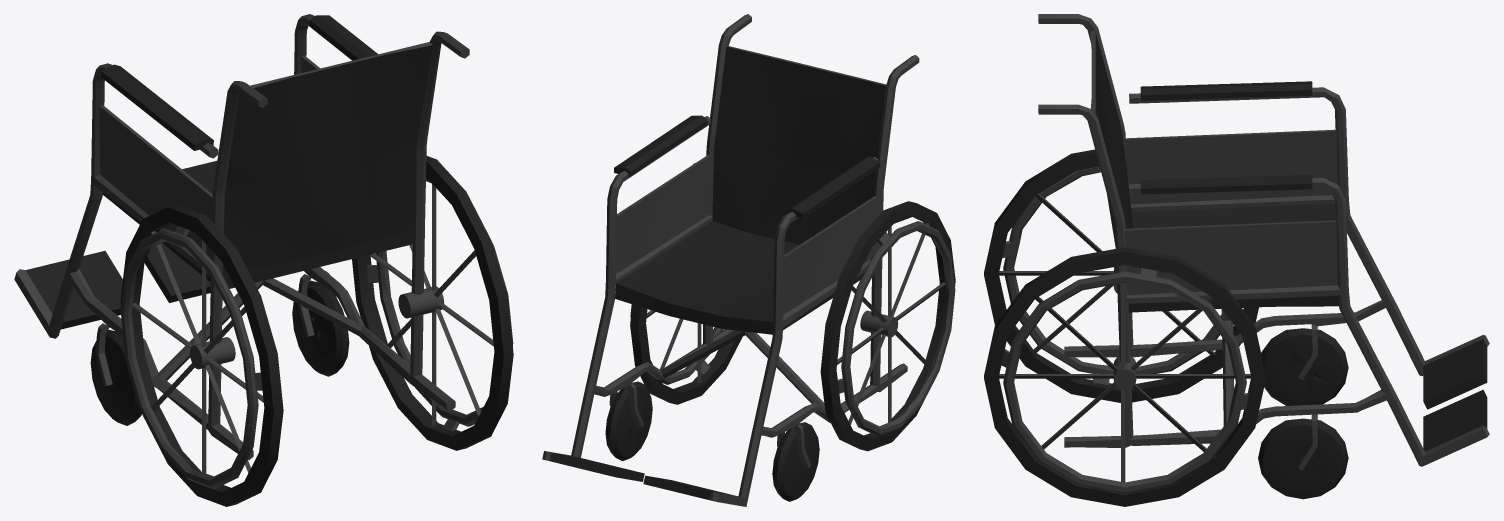
Rendered from WheelChair.fbx.
3 views of the same model, side by side, from view 1: azimuth 30°, elevation 25°; view 2: azimuth 150°, elevation 25°; view 3: azimuth 270°, elevation 25° (orthographic). The views are drawn at different scales.
Visible parts, largest first — view 1: uploads_files_3600828_WheelChair; view 2: uploads_files_3600828_WheelChair; view 3: uploads_files_3600828_WheelChair.
Part boxes in pixels (x1=…): uploads_files_3600828_WheelChair: x1=14, y1=14, x2=513, y2=506; uploads_files_3600828_WheelChair: x1=542, y1=14, x2=955, y2=506; uploads_files_3600828_WheelChair: x1=984, y1=14, x2=1489, y2=506.
Size of the model in its own units: 65.82 by 103 by 119.
